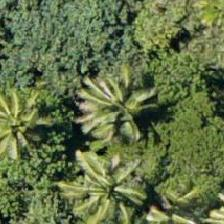coconut_tree: (63, 46, 153, 136), (56, 157, 146, 223), (0, 80, 53, 170), (176, 163, 223, 223)
